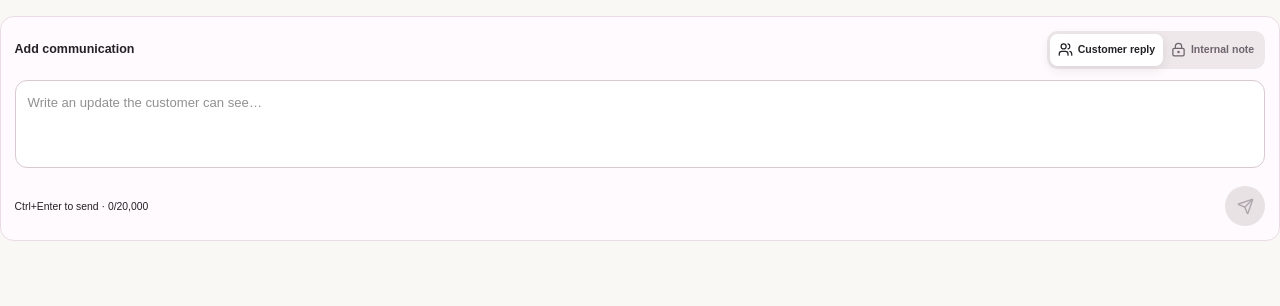
ticket comment composer › sends an internal note only after selecting it
Click the button "Internal note".
click(1213, 50)  # box [1163,34,1262,66]
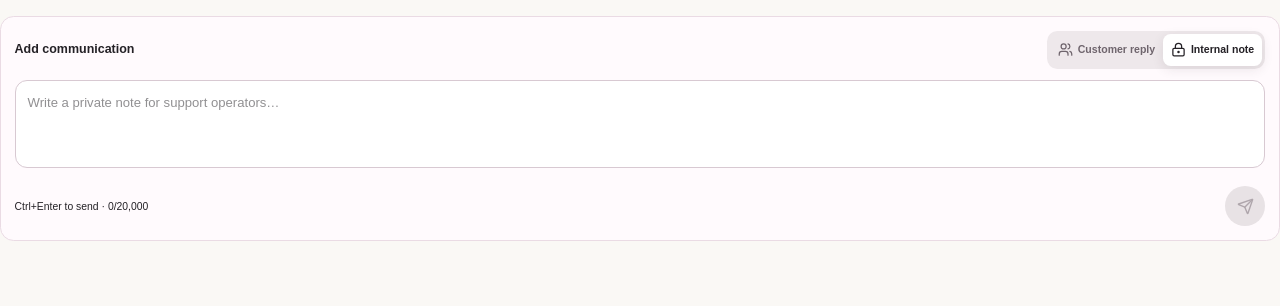
Type "Check the payment processor logs." into the text box named "Comment".
click(640, 124); type("Check the payment processor logs.")  # box [15,80,1265,168]
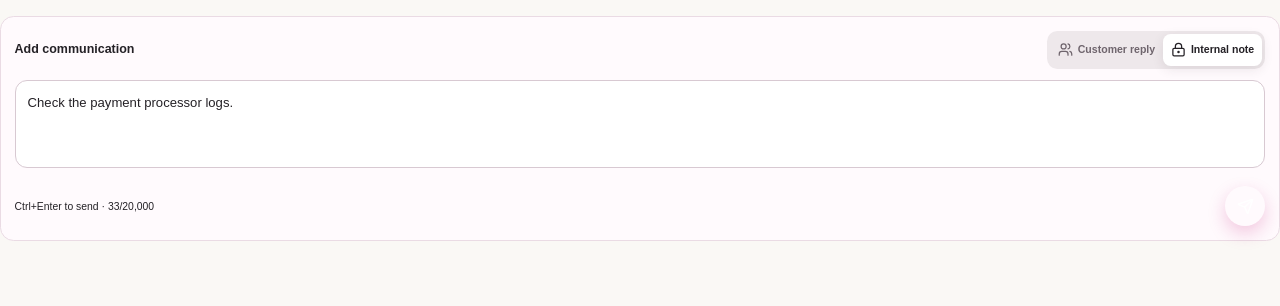
Click the button named "Add internal note".
click(1245, 206)  # box [1225,186,1265,226]
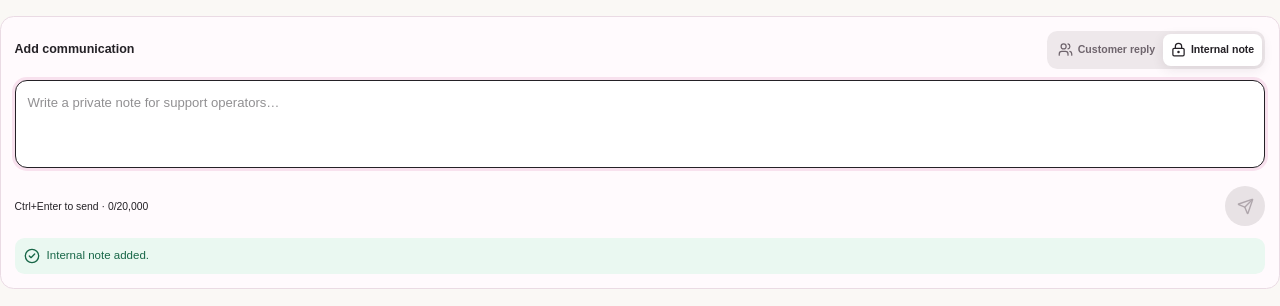
Result: the text "Internal note added." is shown at [15,238,1265,274]
